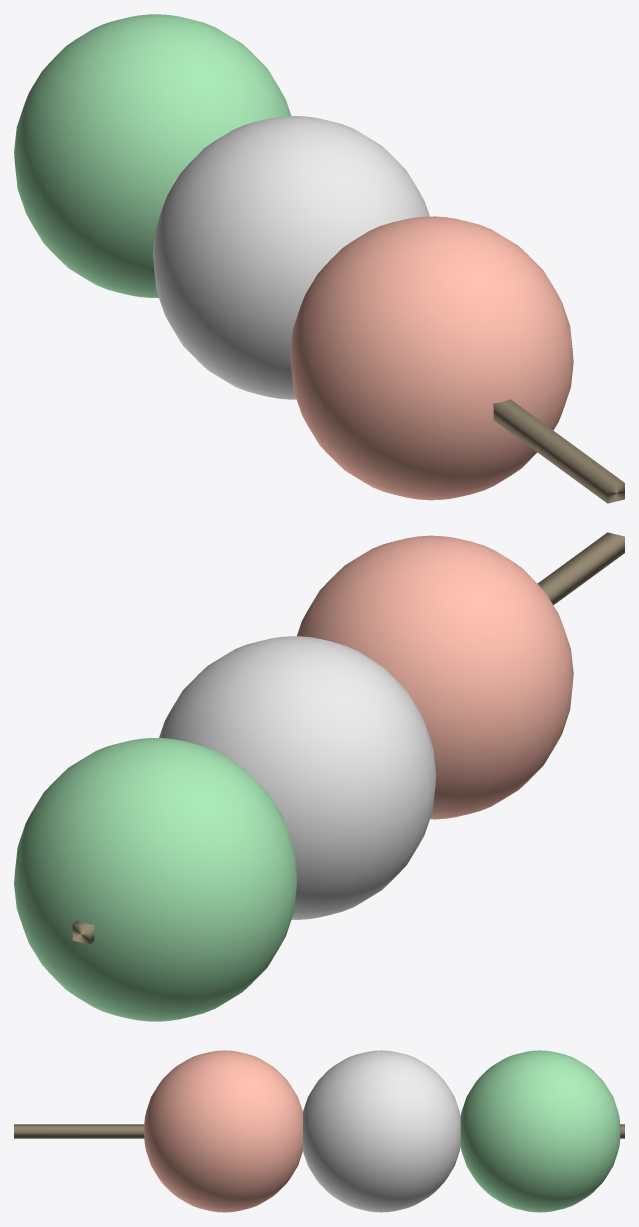
The model's file is danggo.fbx.
3 views of the same model, one above another, from view 1: azimuth 30°, elevation 25°; view 2: azimuth 150°, elevation 25°; view 3: azimuth 270°, elevation 25° (orthographic). The views are drawn at different scales.
Parts seen in each view (by area): view 1: Sphere, Sphere.002, Sphere.001, Cube; view 2: Sphere.002, Sphere.001, Sphere, Cube; view 3: Sphere.002, Sphere, Sphere.001, Cube.
Part boxes in pixels (x1=…): Sphere: x1=290, y1=216, x2=573, y2=500; Sphere.002: x1=14, y1=14, x2=291, y2=297; Sphere.001: x1=153, y1=116, x2=429, y2=399; Cube: x1=493, y1=399, x2=624, y2=503; Sphere.002: x1=14, y1=738, x2=297, y2=1021; Sphere.001: x1=159, y1=636, x2=436, y2=919; Sphere: x1=297, y1=535, x2=573, y2=819; Cube: x1=72, y1=532, x2=624, y2=944; Sphere.002: x1=460, y1=1050, x2=620, y2=1212; Sphere: x1=144, y1=1050, x2=302, y2=1212; Sphere.001: x1=303, y1=1050, x2=460, y2=1212; Cube: x1=14, y1=1124, x2=624, y2=1138.
Size of the model in its own units: 200 by 200 by 753.
